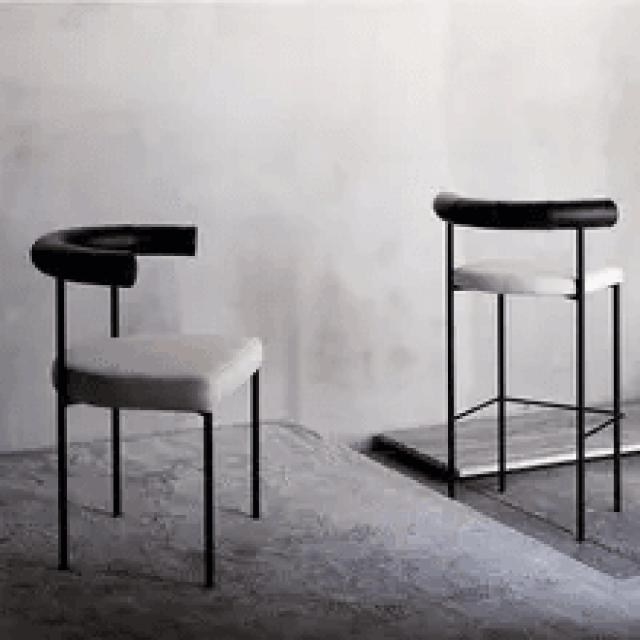chair: (24, 209, 273, 591), (428, 184, 630, 546), (23, 221, 272, 411), (430, 185, 632, 300)
